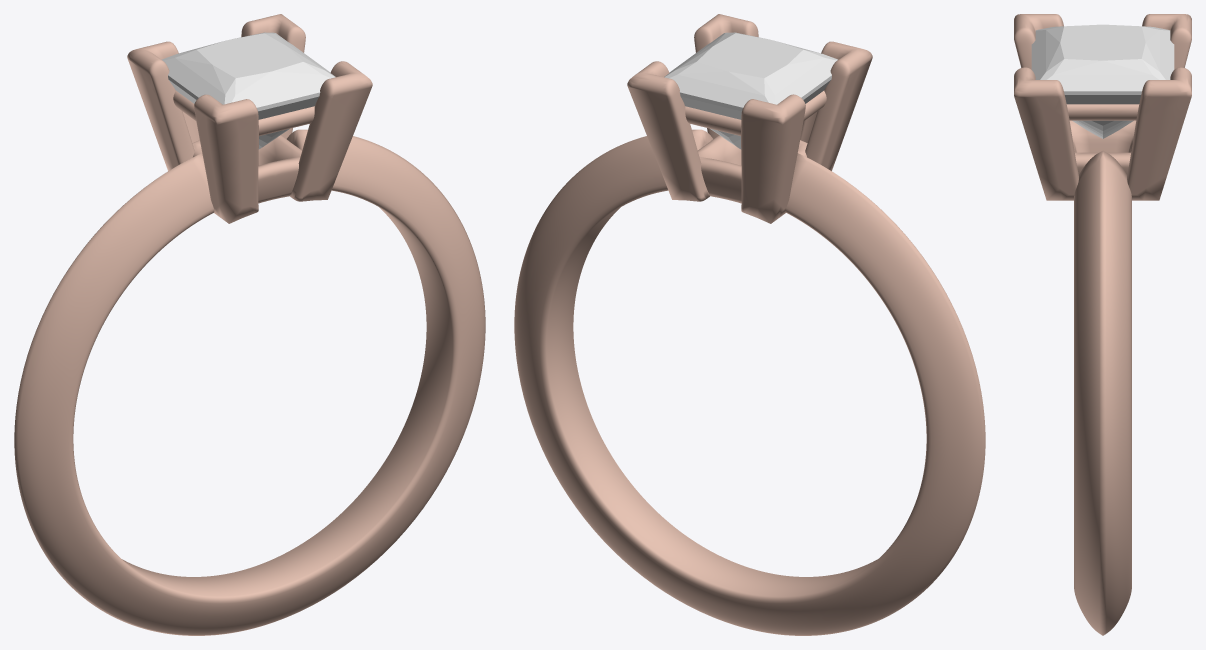
The model's file is diamond-princess-rosegold-protectededges4prongs-knifeedge-solitaire.glb.
The picture shows the model from 3 angles, left to right: view 1: azimuth 30°, elevation 25°; view 2: azimuth 150°, elevation 25°; view 3: azimuth 270°, elevation 25°; orthographic projection.
Visible parts, largest first — view 1: metal, stone; view 2: metal, stone; view 3: metal, stone.
Part boxes in pixels (x1,y1,x2,y2): metal: [14, 14, 485, 635]; stone: [162, 32, 335, 149]; metal: [514, 14, 985, 635]; stone: [664, 32, 837, 149]; metal: [1014, 14, 1191, 635]; stone: [1031, 24, 1174, 138].
Size of the model in its own units: 20.5 by 23.85 by 6.77.
